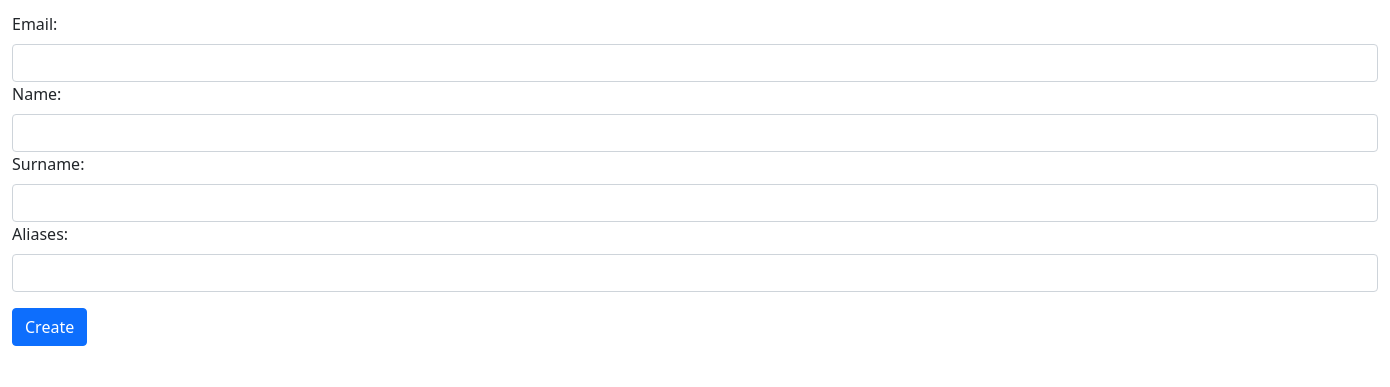
Test: AppEmailAdd › submit email app wrong response
The image size is (1390, 387).
Type "test-aa" into the field with test id "email-add-mail" at (695, 63), box [12,44,1378,82]
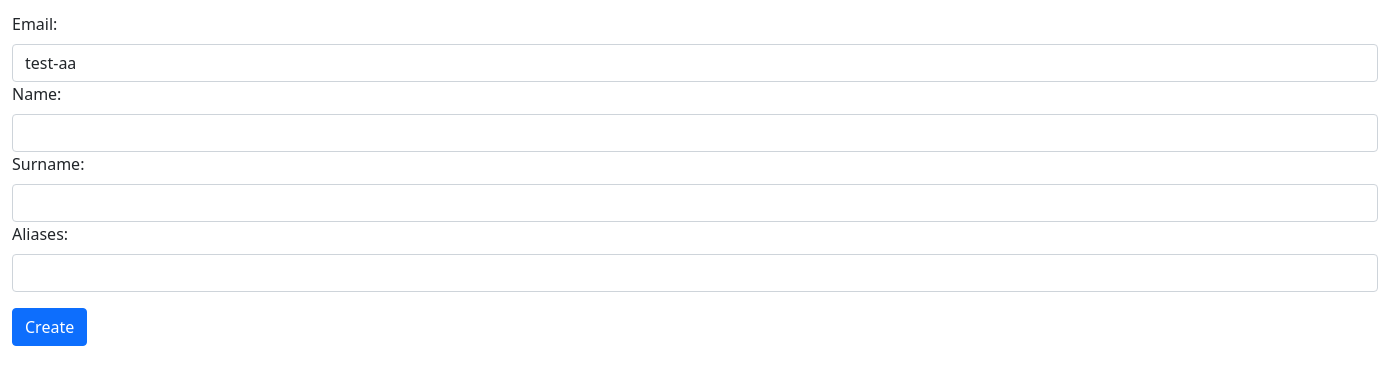
Type "test-aa" into the field with test id "email-add-cn" at (695, 133), box [12,114,1378,152]
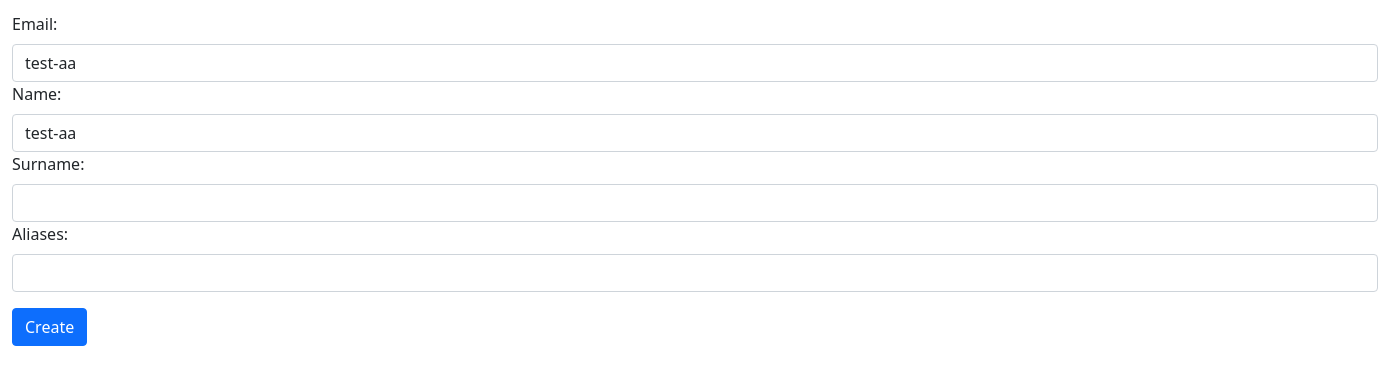
Type "test-aa" into the field with test id "email-add-sn" at (695, 203), box [12,184,1378,222]
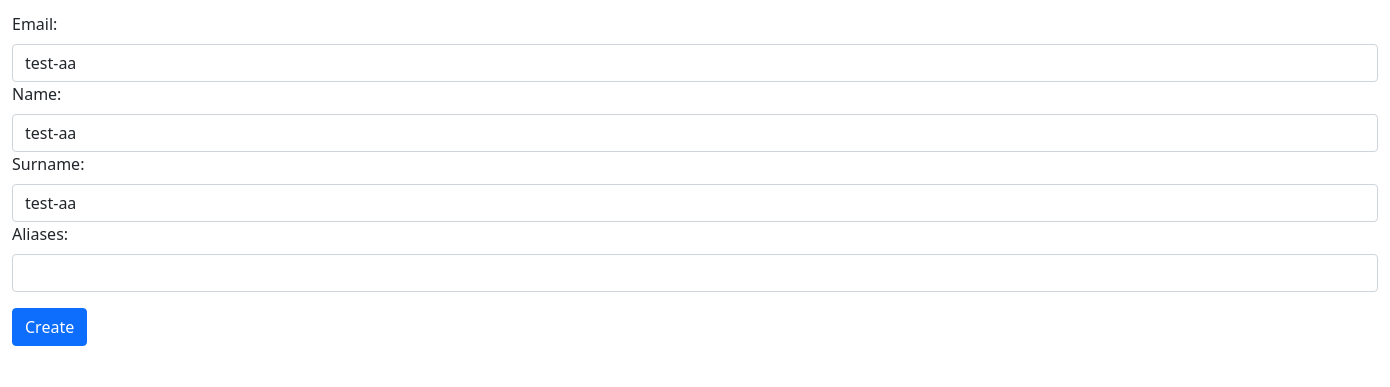
Click the button "Create" at (50, 327), box [12,308,87,346]
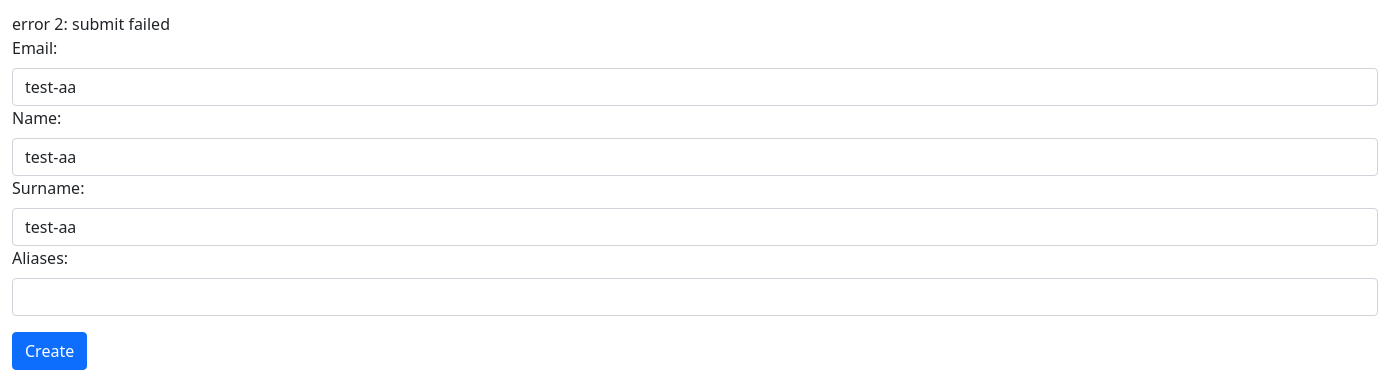
Now the text with test id "email-add-message" shows "submit failed", box [12,13,170,35]
